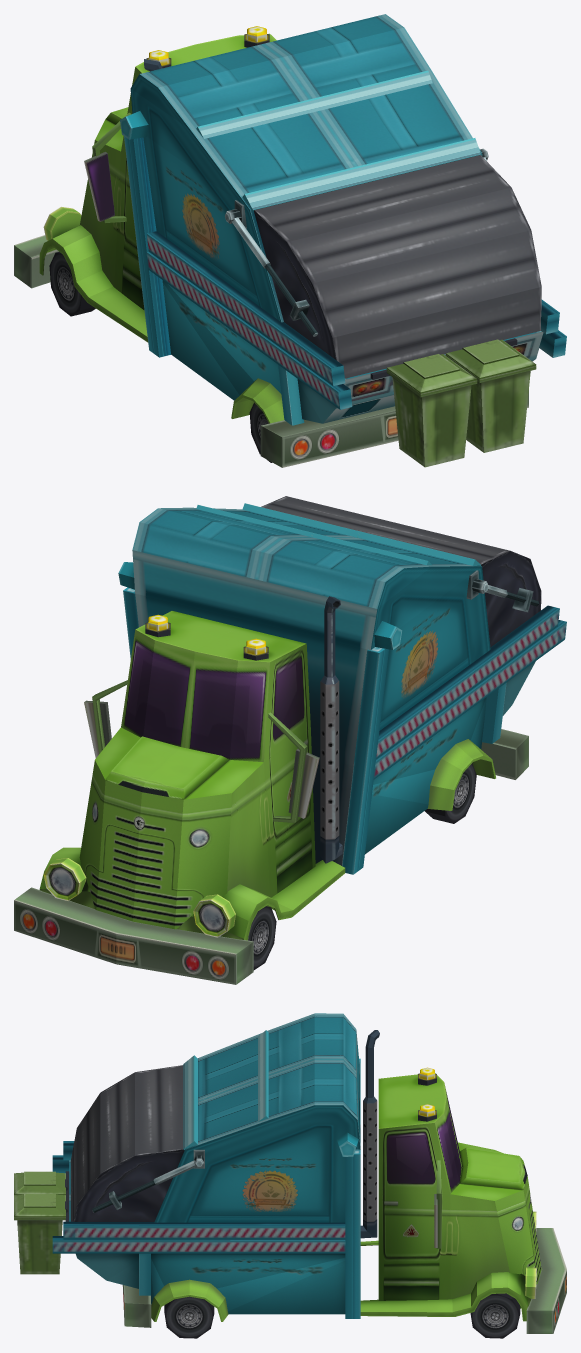
Rendered from Garbage_Truck.FBX.
The picture shows the model from 3 angles, top to bottom: view 1: azimuth 30°, elevation 25°; view 2: azimuth 150°, elevation 25°; view 3: azimuth 270°, elevation 25°; orthographic projection. The views are drawn at different scales.
Parts seen in each view (by area): view 1: Garbage_Truck, Tyre_FL; view 2: Garbage_Truck, Tyre_FL, Tyre_BL; view 3: Garbage_Truck, Tyre_FR, Tyre_BR.
Boxes of the visible parts, <box> form: Garbage_Truck: <box>14,14,566,467</box>; Tyre_FL: <box>49,252,95,316</box>; Garbage_Truck: <box>14,496,566,984</box>; Tyre_FL: <box>248,906,276,970</box>; Tyre_BL: <box>425,763,476,823</box>; Garbage_Truck: <box>14,1013,566,1333</box>; Tyre_FR: <box>470,1293,520,1338</box>; Tyre_BR: <box>164,1296,214,1338</box>.
Bounding box in the file's own units: 5.71 × 6.4 × 13.18.
Materials: 1 (1 with a texture image).
